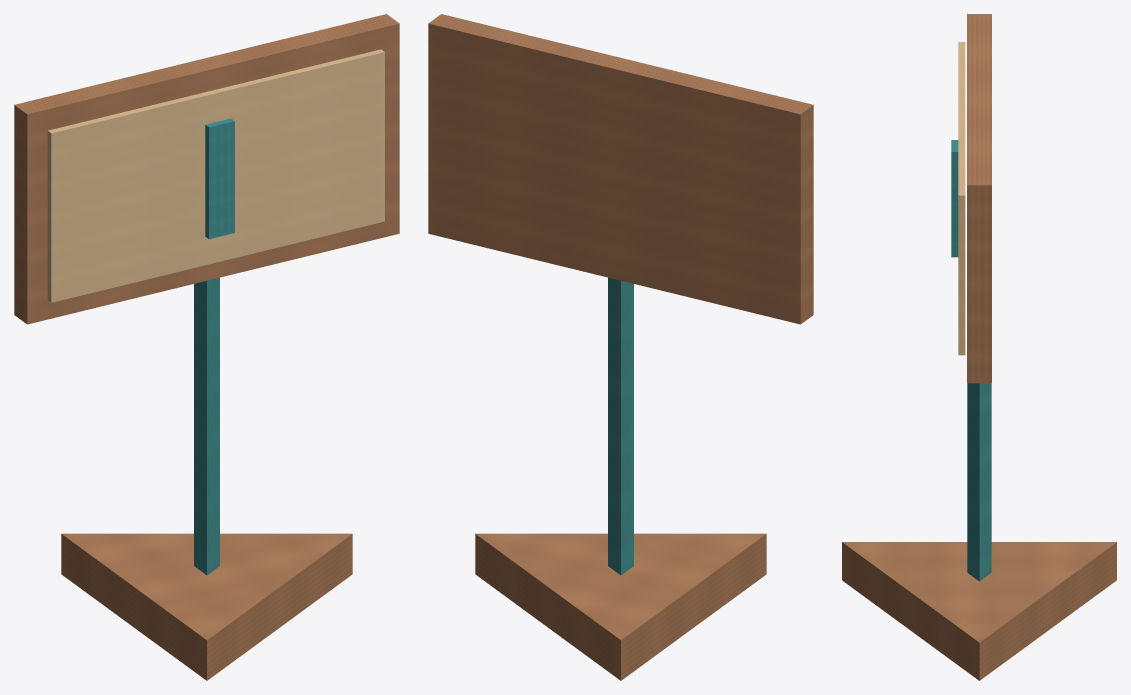
Rendered from atlas100-s091-a11.lod2.glb.
The picture shows the model from 3 angles, left to right: view 1: azimuth 30°, elevation 25°; view 2: azimuth 150°, elevation 25°; view 3: azimuth 270°, elevation 25°; orthographic projection. The views are drawn at different scales.
Parts seen in each view (by area): view 1: atlas100-s091-a11:part-003, atlas100-s091-a11:part-002, atlas100-s091-a11:part-000, atlas100-s091-a11:part-001, atlas100-s091-a11:part-005; view 2: atlas100-s091-a11:part-002, atlas100-s091-a11:part-000, atlas100-s091-a11:part-001; view 3: atlas100-s091-a11:part-000, atlas100-s091-a11:part-002, atlas100-s091-a11:part-001, atlas100-s091-a11:part-003, atlas100-s091-a11:part-005.
Part boxes in pixels (x1,y1,x2,y2): atlas100-s091-a11:part-003: [47, 49, 384, 302]; atlas100-s091-a11:part-002: [14, 14, 399, 324]; atlas100-s091-a11:part-000: [61, 533, 352, 680]; atlas100-s091-a11:part-001: [194, 277, 219, 575]; atlas100-s091-a11:part-005: [205, 118, 234, 239]; atlas100-s091-a11:part-002: [428, 14, 813, 324]; atlas100-s091-a11:part-000: [475, 533, 766, 680]; atlas100-s091-a11:part-001: [608, 277, 633, 575]; atlas100-s091-a11:part-000: [842, 542, 1116, 680]; atlas100-s091-a11:part-002: [967, 14, 991, 383]; atlas100-s091-a11:part-001: [967, 383, 991, 581]; atlas100-s091-a11:part-003: [958, 42, 965, 355]; atlas100-s091-a11:part-005: [951, 140, 958, 257].
Bounding box in the file's own units: 1.15 × 1.61 × 0.7794.
3 materials, 3 textured.
